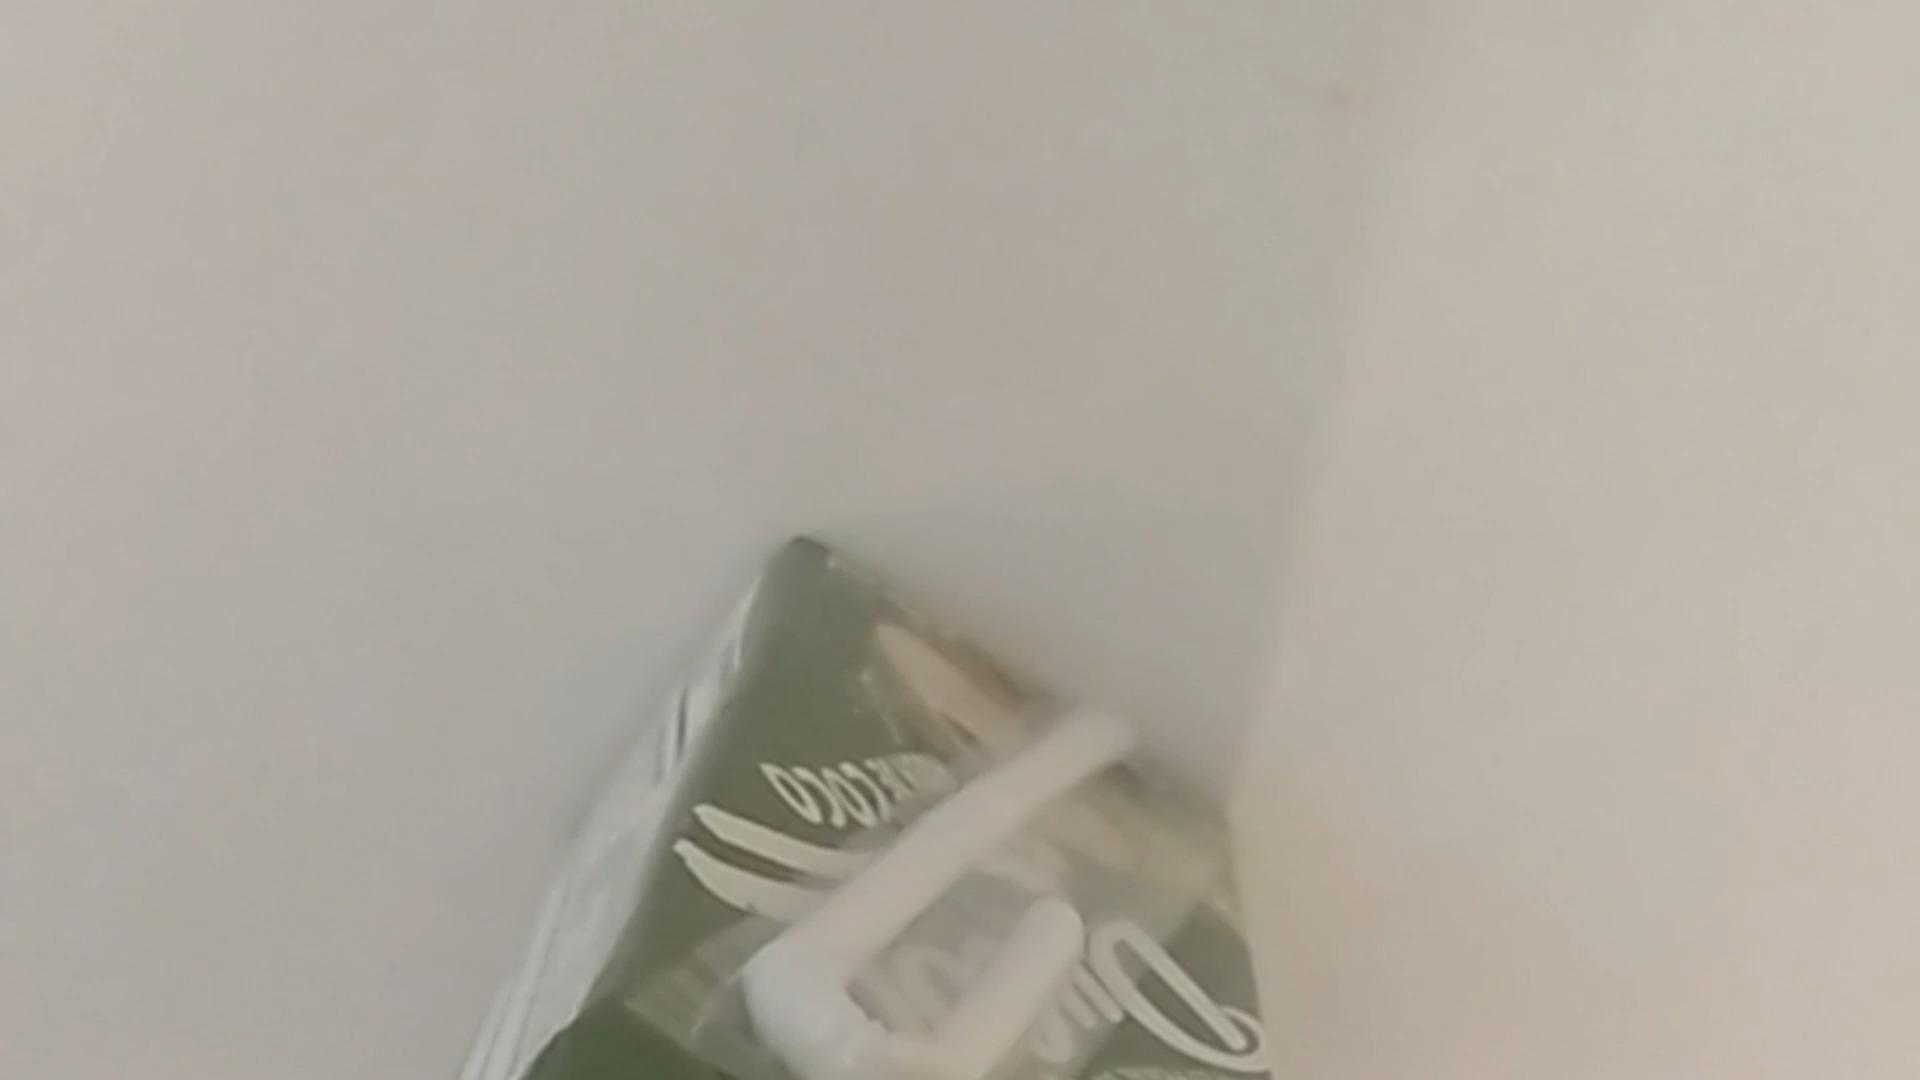coco: (460, 538, 1267, 1080)
